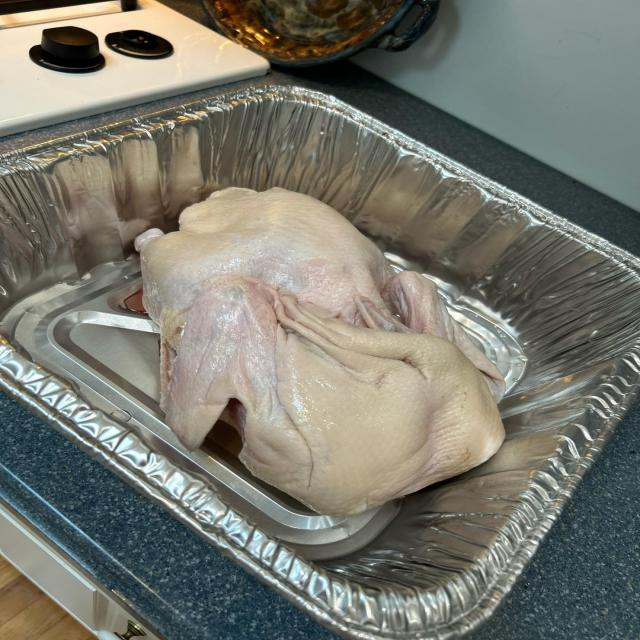duck: (135, 188, 505, 516)
